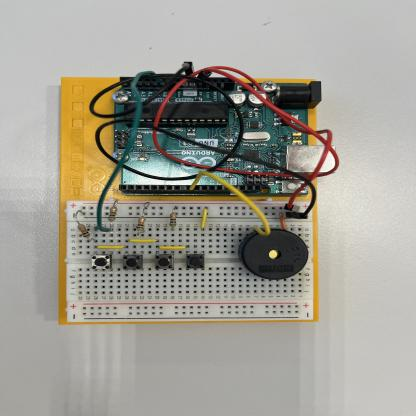5V: (152, 68, 313, 178)
ARDUINO: (116, 82, 311, 196)
Breadboard: (68, 202, 313, 321)
Button: (154, 254, 173, 270), (91, 255, 111, 270), (122, 255, 142, 270), (186, 254, 204, 270)
GND: (96, 119, 230, 181), (85, 74, 177, 119)
Long wire: (189, 171, 271, 236)
Piezo: (238, 229, 308, 280)
Resistor: (72, 210, 90, 241), (136, 202, 150, 233), (107, 205, 117, 222), (169, 211, 177, 230)
Short wire: (200, 209, 207, 228), (280, 215, 287, 230), (129, 239, 155, 243), (159, 246, 185, 249), (97, 246, 123, 249)
